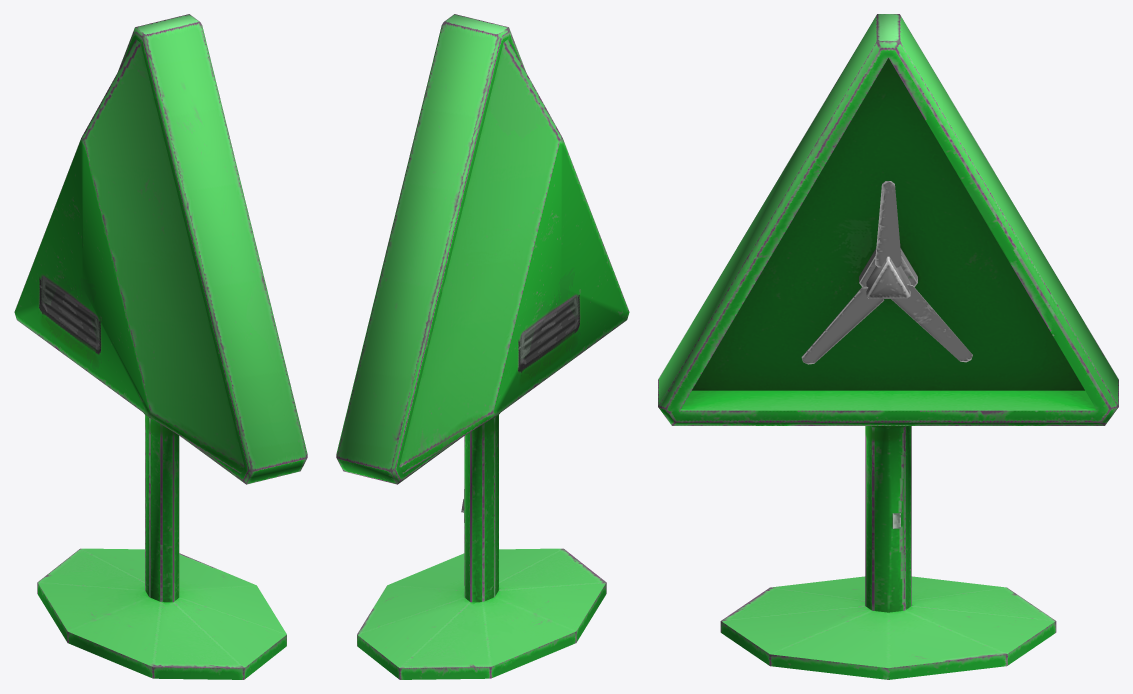
File: PROP_105_Fan.fbx
3 views of the same model, side by side, from view 1: azimuth 30°, elevation 25°; view 2: azimuth 150°, elevation 25°; view 3: azimuth 270°, elevation 25° (orthographic). The views are drawn at different scales.
Parts seen in each view (by area): view 1: Fan.001; view 2: Fan.001; view 3: Fan.001.
Boxes of the visible parts, <box> form: Fan.001: <box>14,14,307,679</box>; Fan.001: <box>336,14,629,679</box>; Fan.001: <box>658,14,1118,679</box>.
Bounding box in the file's own units: 0.3 × 0.9 × 0.6185.
Materials: 1 (1 with a texture image).
